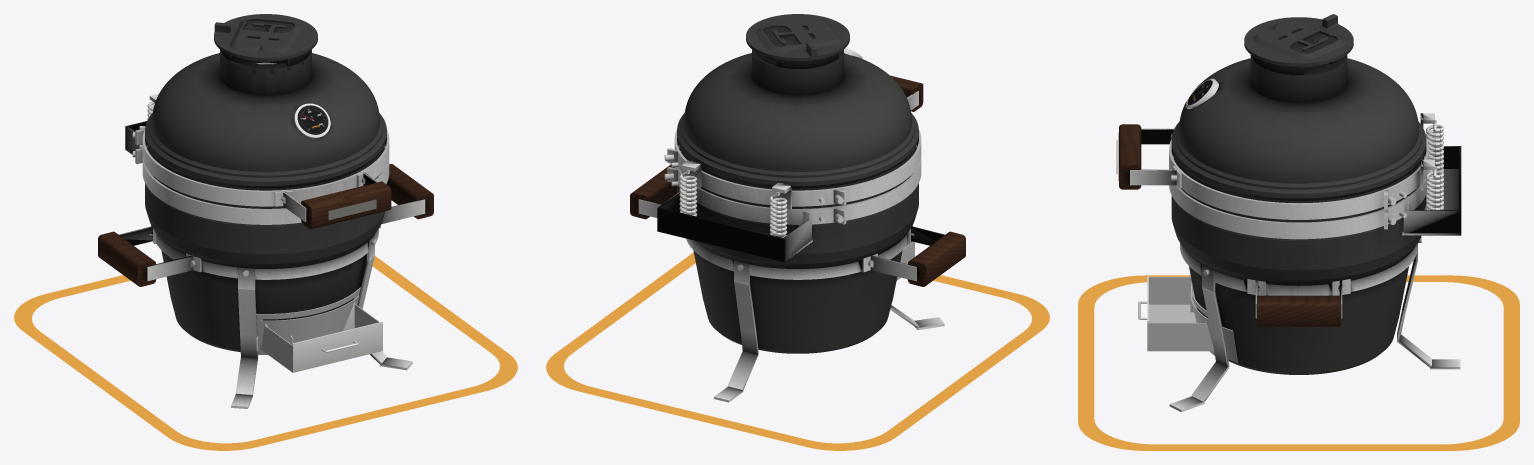
File: grill-bill-pro-3-medium-16-v18.glb
3 renders of one model, left to right at view 1: azimuth 30°, elevation 25°; view 2: azimuth 150°, elevation 25°; view 3: azimuth 270°, elevation 25°, orthographic. The views are drawn at different scales.
Visible parts, largest first — view 1: base, lid; view 2: base, lid; view 3: base, lid.
Part boxes in pixels (x1,y1,x2,y2): base: [14, 101, 517, 450]; lid: [132, 14, 391, 229]; base: [546, 145, 1049, 450]; lid: [664, 14, 923, 209]; base: [1078, 119, 1519, 450]; lid: [1116, 14, 1434, 219].
Bounding box in the file's own units: 0.6441 × 0.5715 × 0.6853.
20 materials, 7 textured.
